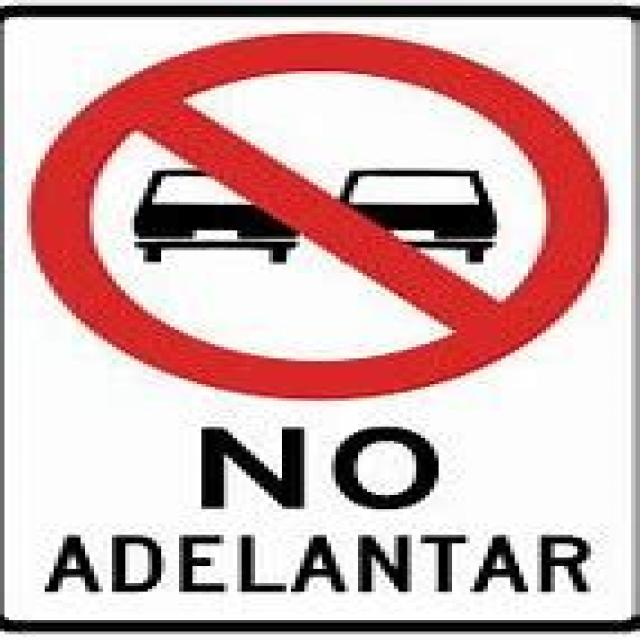no_stop: (27, 31, 604, 398)
